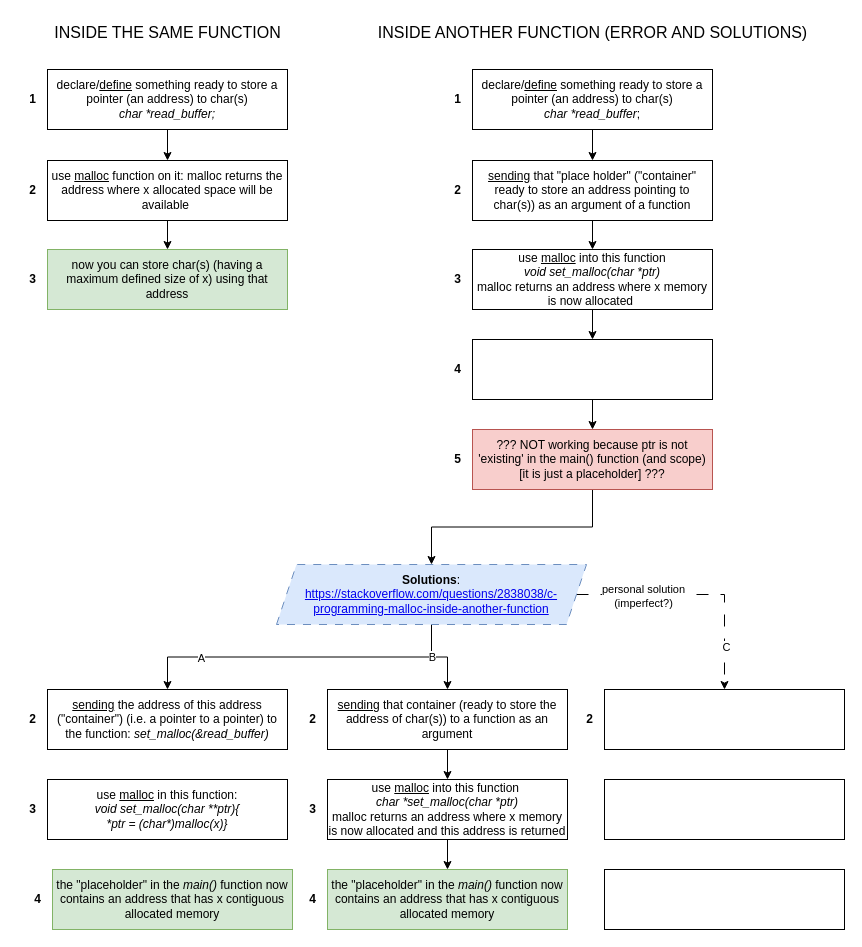
The diagram is 862 pixels wide and 947 high, and some of its shapes have lost their labels. The centre of each missing label's shape, as x and y in pixels:
"cf screenshot of 14dec23 in photos" goes at [724,719].
"use malloc into the function void set_malloc(char *ptr)" goes at [592,369].
